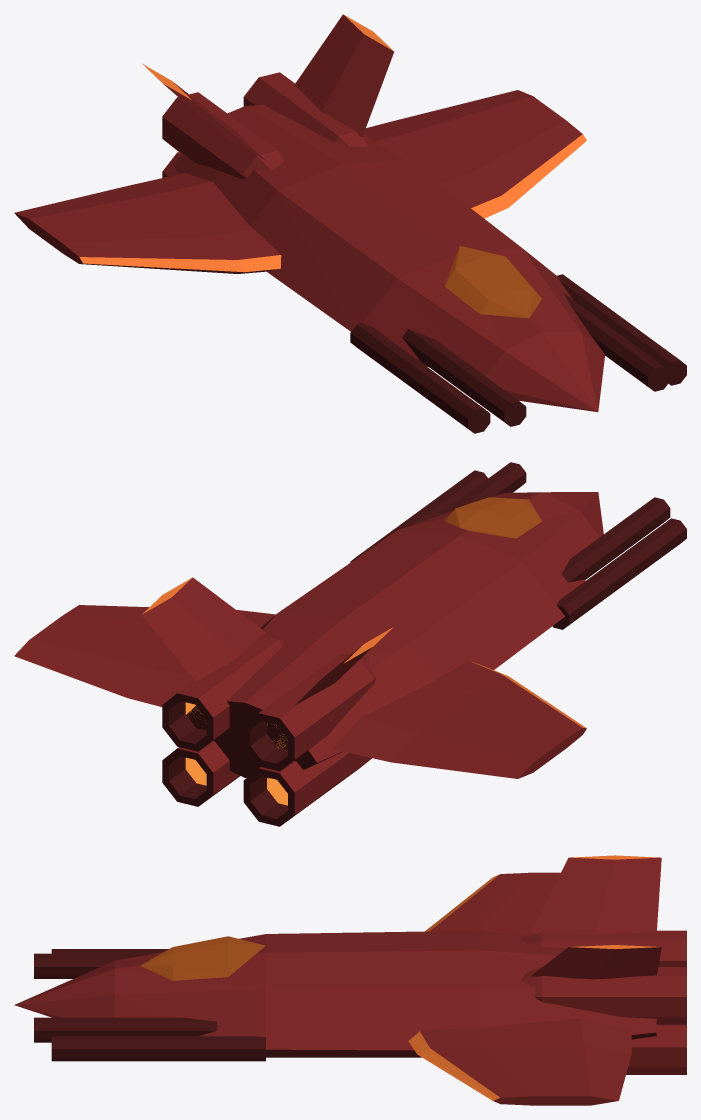
Rendered from arcwing-gunship-hull.gltf.
3 renders of one model, top to bottom at view 1: azimuth 30°, elevation 25°; view 2: azimuth 150°, elevation 25°; view 3: azimuth 270°, elevation 25°, orthographic. The views are drawn at different scales.
Parts seen in each view (by area): view 1: arcwing-gunship; view 2: arcwing-gunship; view 3: arcwing-gunship.
Boxes of the visible parts, left/top/right/bottom form: arcwing-gunship: left=14, top=14, right=686, bottom=433; arcwing-gunship: left=14, top=462, right=686, bottom=826; arcwing-gunship: left=14, top=855, right=686, bottom=1105.
Bounding box in the file's own units: 2.1 × 0.6562 × 2.67.
